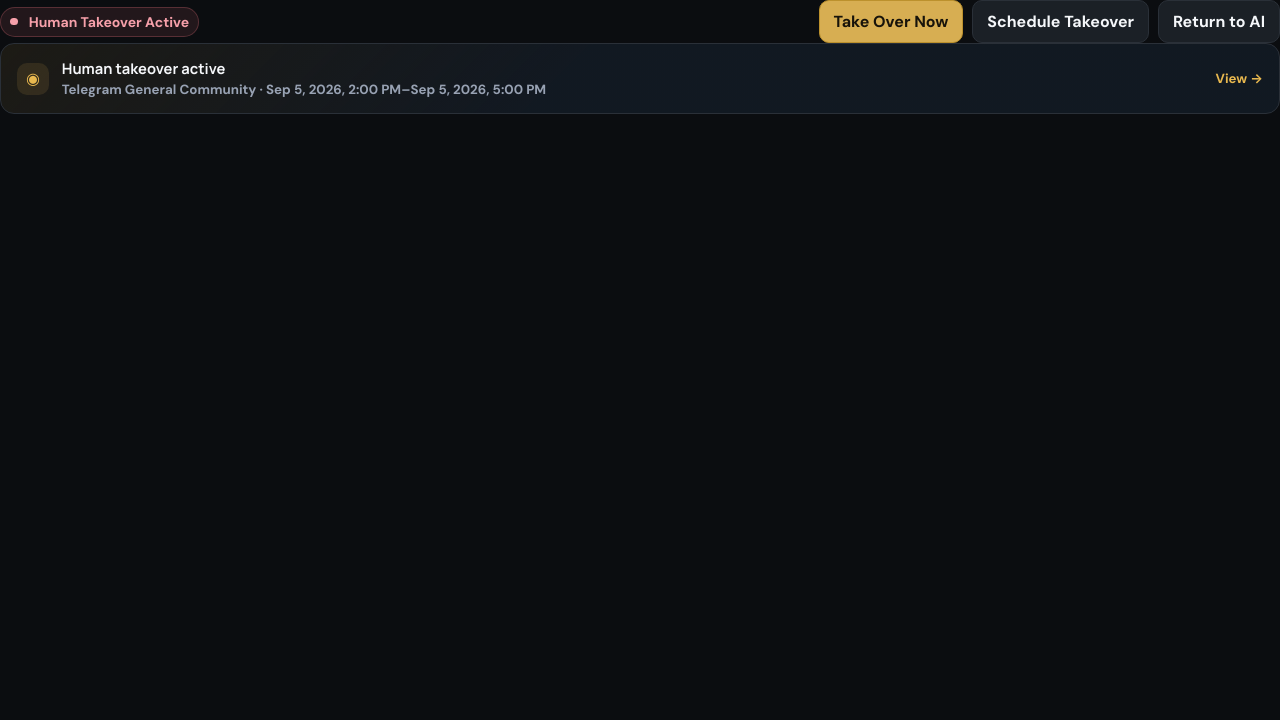
takeover manager UI › separates Active Takeovers from Upcoming Takeovers and keeps Return to AI/Cancel explicit
Expected: the text "Human Takeover Active" is shown, [0,6,199,36]
Click the button "Return to AI". click: (1219, 22)
box: [1158,0,1279,43]
(page scrolled)
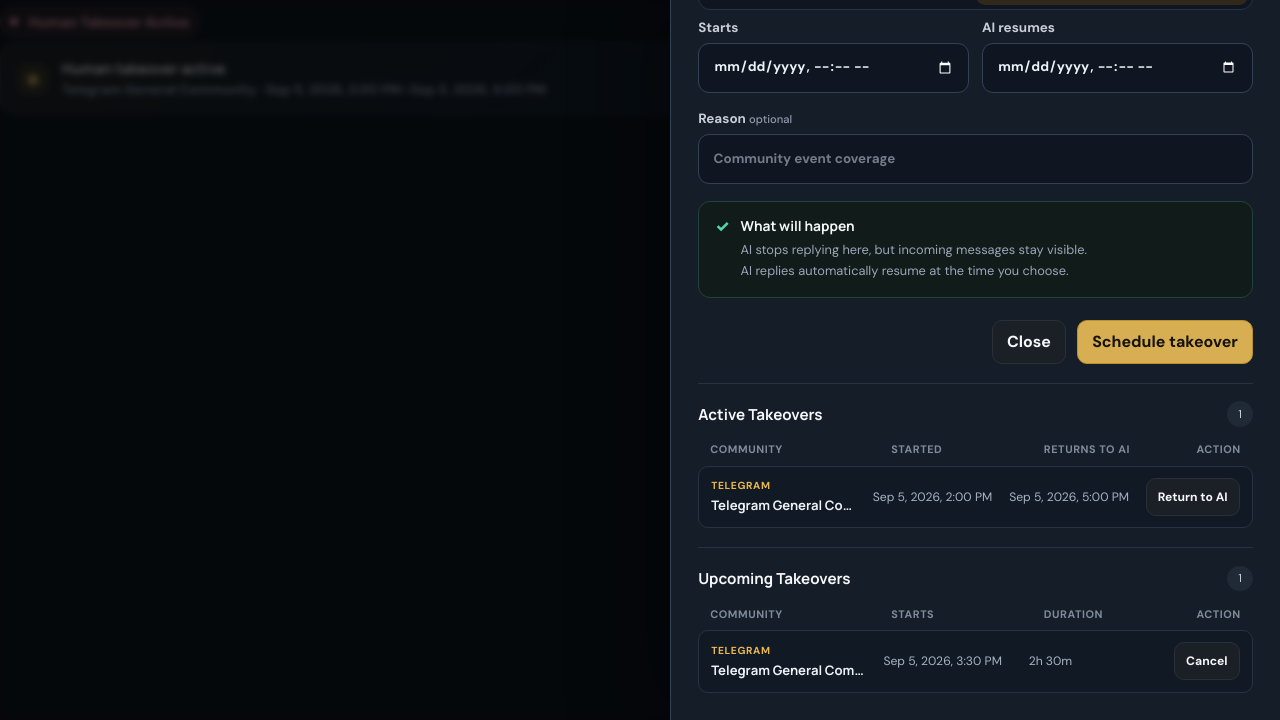
Now the text "Telegram General Community" below "Started" is shown, box [711,496,899,514]
Now the button "Return to AI" is shown, box [1146,478,1240,516]
Now the text "Telegram General Community" next to "Sep 5, 2026, 3:30 PM" is shown, box [711,661,899,679]
